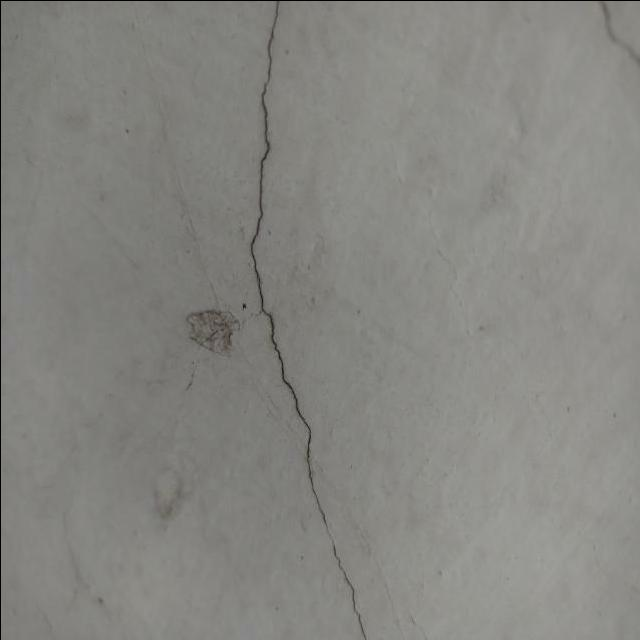SurfaceCrack: (212, 0, 417, 640)
